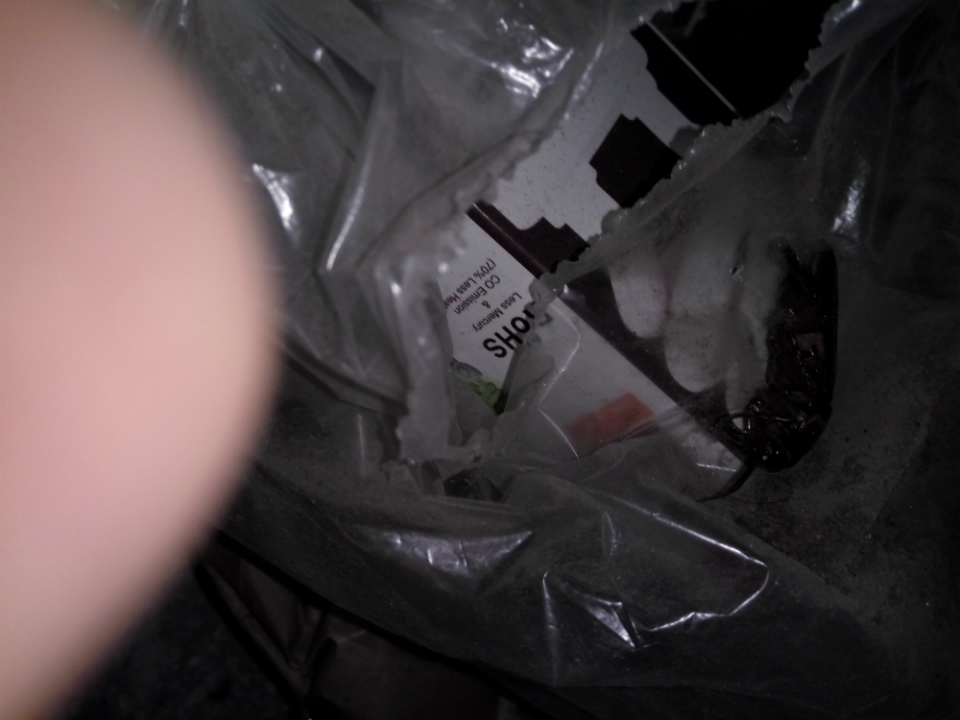cockroach: (730, 229, 884, 516)
